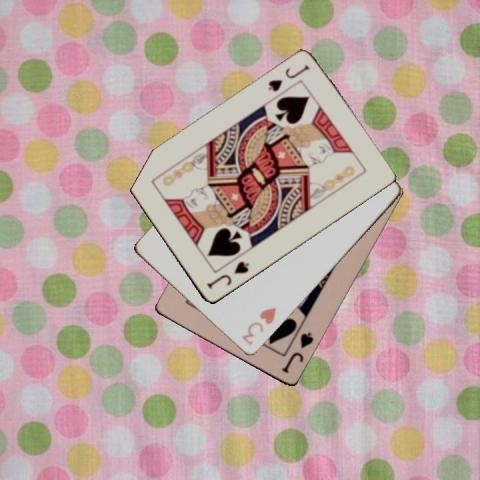3h: (239, 304, 278, 346)
Js: (279, 330, 315, 376), (204, 258, 251, 291), (264, 62, 311, 94)
